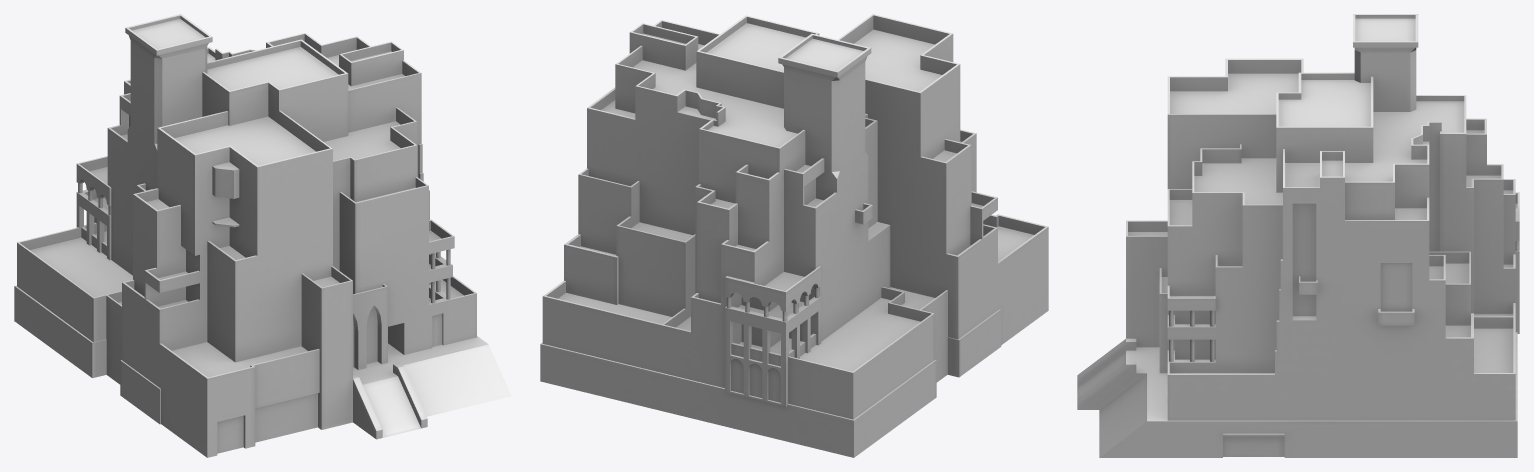
Rendered from dubaimunicipality.gltf.
The picture shows the model from 3 angles, left to right: view 1: azimuth 30°, elevation 25°; view 2: azimuth 150°, elevation 25°; view 3: azimuth 270°, elevation 25°; orthographic projection. The views are drawn at different scales.
Visible parts, largest first — view 1: dubaimunicipality; view 2: dubaimunicipality; view 3: dubaimunicipality.
Part boxes in pixels (x1,y1,x2,y2): dubaimunicipality: (14, 14, 511, 457); dubaimunicipality: (540, 14, 1048, 457); dubaimunicipality: (1077, 14, 1519, 457).
Bounding box in the file's own units: 37.67 × 37.38 × 46.01.
1 material, 1 textured.
